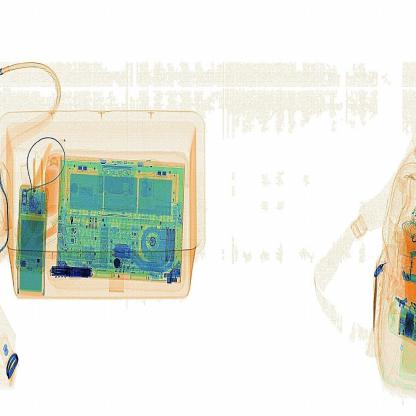scissors: (48, 260, 103, 283)
